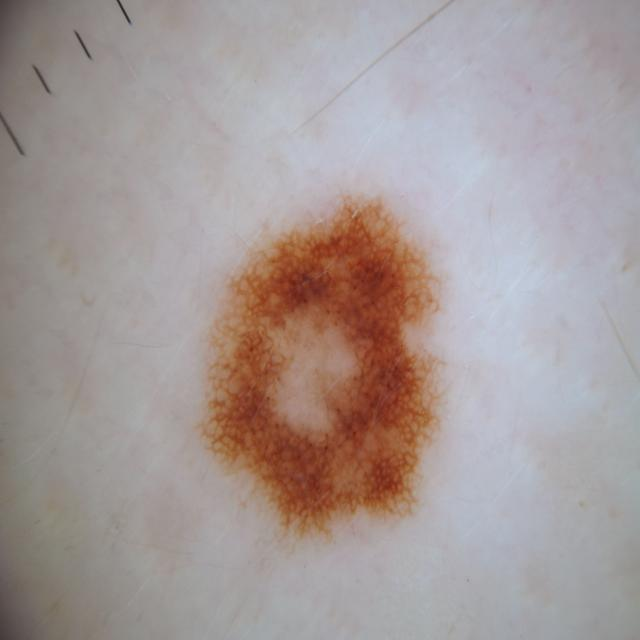Skin-Cancer Nevus: (117, 63, 577, 603)
